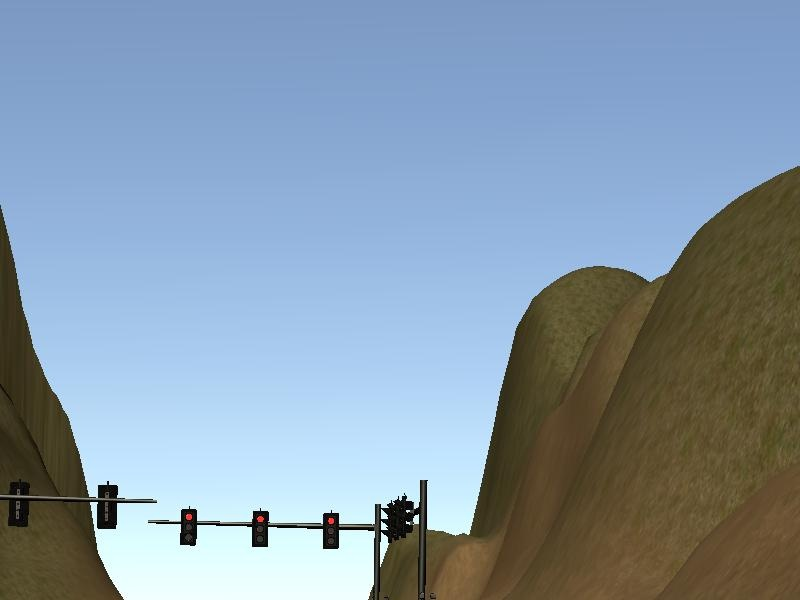red: (318, 508, 342, 552), (253, 508, 271, 550), (180, 505, 196, 547)
